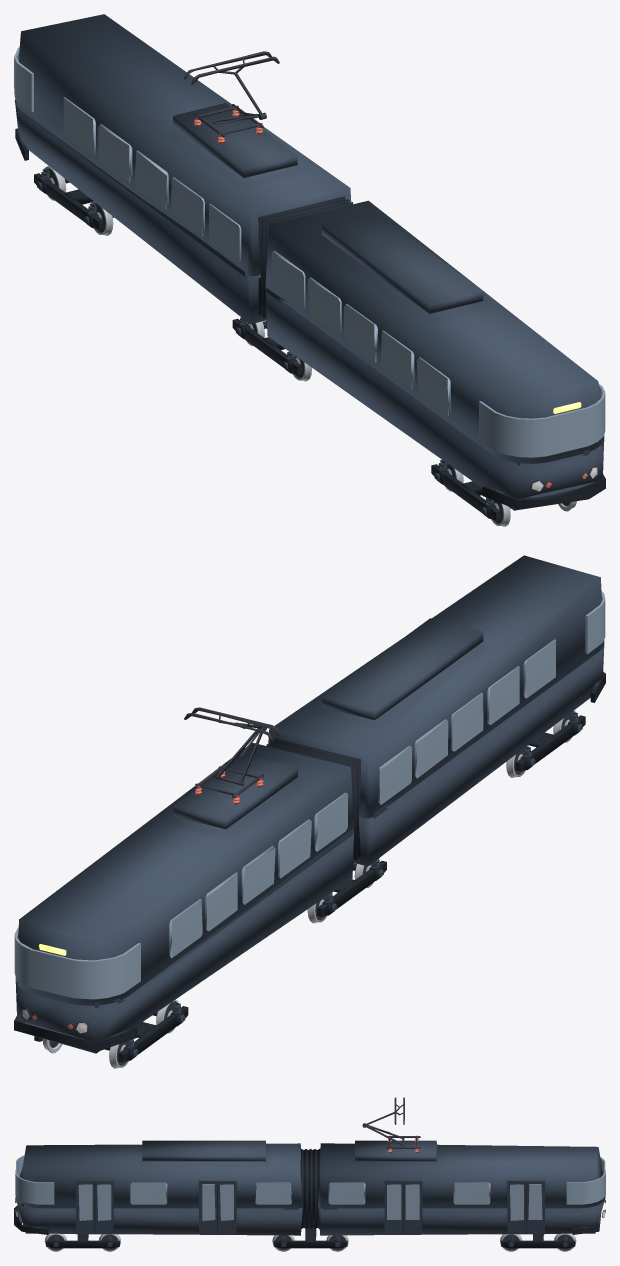
Rendered from tram.glb.
3 renders of one model, top to bottom at view 1: azimuth 30°, elevation 25°; view 2: azimuth 150°, elevation 25°; view 3: azimuth 270°, elevation 25°, orthographic. The views are drawn at different scales.
Parts seen in each view (by area): view 1: tram_body, tram_rear_windows, tram_front_windows, tram_pantograph_arms, tram_pantograph_base; view 2: tram_body, tram_front_windows, tram_rear_windows, tram_pantograph_arms, tram_pantograph_base; view 3: tram_body, tram_rear_windows, tram_front_windows, tram_pantograph_arms, tram_pantograph_base.
Part boxes in pixels (left/top/right/bottom): tram_body: left=14, top=14, right=605, bottom=520; tram_rear_windows: left=271, top=250, right=605, bottom=457; tram_front_windows: left=14, top=47, right=241, bottom=262; tram_pantograph_arms: left=184, top=51, right=279, bottom=124; tram_pantograph_base: left=193, top=104, right=263, bottom=143; tram_body: left=14, top=555, right=605, bottom=1062; tram_front_windows: left=14, top=792, right=348, bottom=999; tram_rear_windows: left=378, top=591, right=605, bottom=804; tram_pantograph_arms: left=184, top=707, right=279, bottom=785; tram_pantograph_base: left=194, top=764, right=263, bottom=804; tram_body: left=14, top=1140, right=605, bottom=1248; tram_rear_windows: left=15, top=1155, right=291, bottom=1220; tram_front_windows: left=328, top=1157, right=605, bottom=1220; tram_pantograph_arms: left=362, top=1097, right=404, bottom=1146; tram_pantograph_base: left=386, top=1135, right=420, bottom=1153.
Bounding box in the file's own units: 2.48 × 4.96 × 19.77.
Materials: 9 (1 with a texture image).
